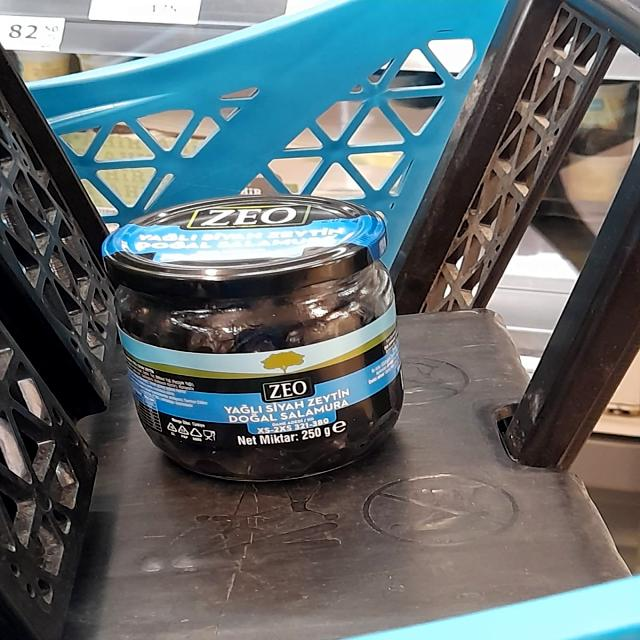olive: (99, 185, 417, 487)
